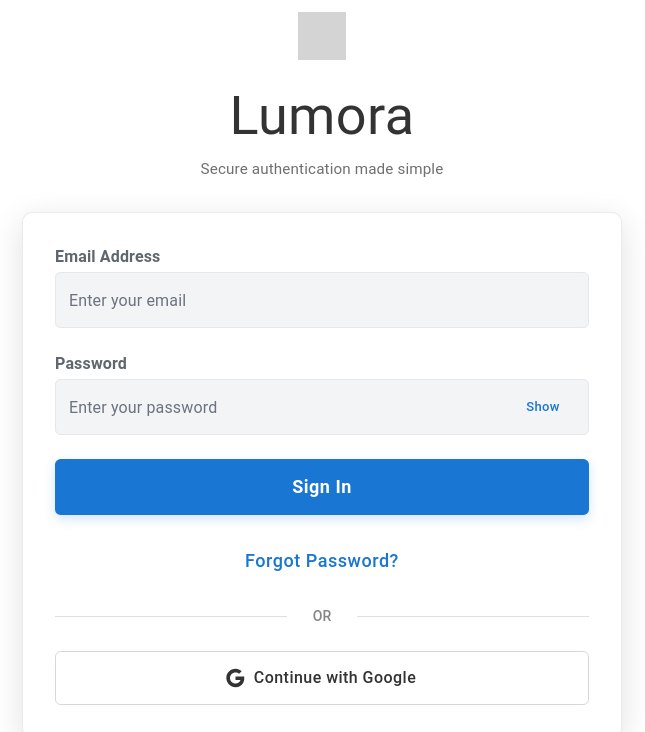
Test: LumoraLogin Component › Password Visibility Toggle › should toggle password visibility when show/hide button is clicked
The image size is (645, 732).
Click show button
What coordinates should you click on to do the following:
click the button "Show"
I would click on:
 (543, 408)
Its box is [511,392,575,423].
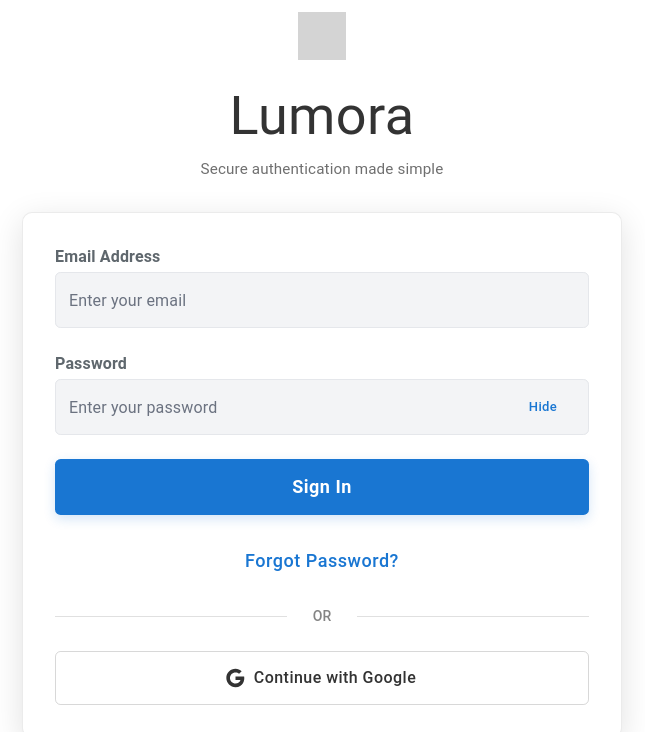
Result: the button "Hide" is shown
Click hide button
What coordinates should you click on to do the following:
click the button "Hide"
I would click on:
 (543, 408)
Its box is [511,392,575,423].
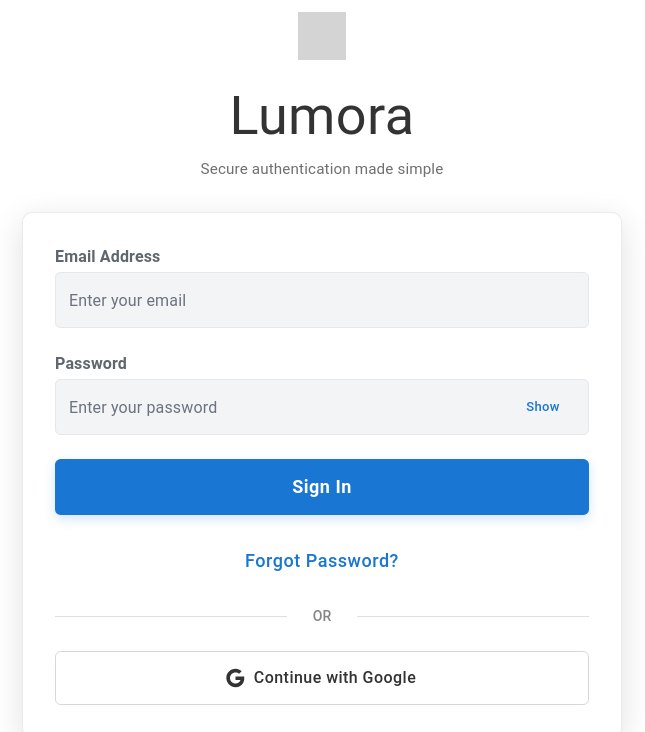
Result: the button "Show" is shown at [511,392,575,423]
